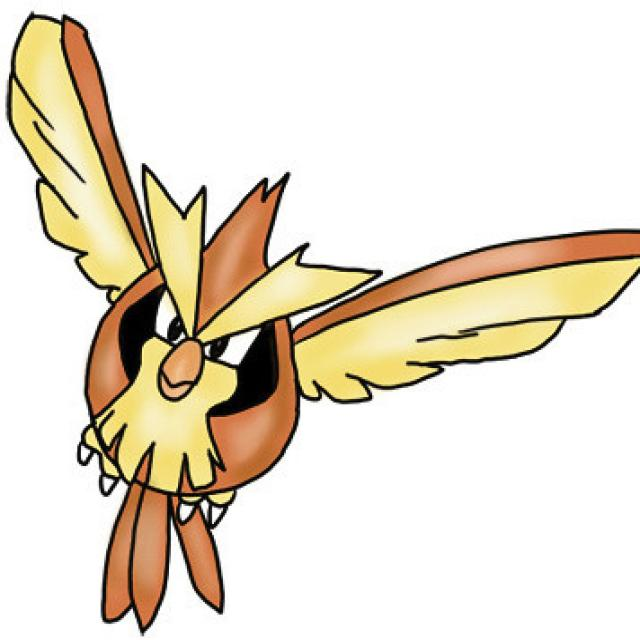Pidgey: (62, 155, 414, 560)
